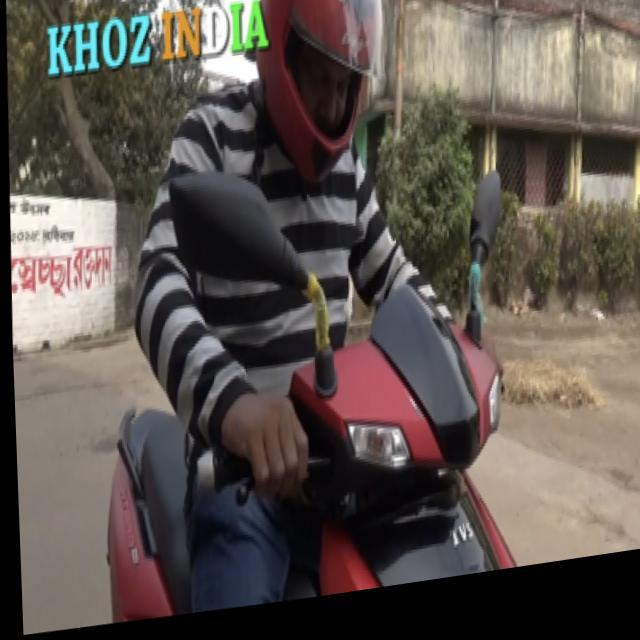Helmet: (247, 0, 388, 187)
